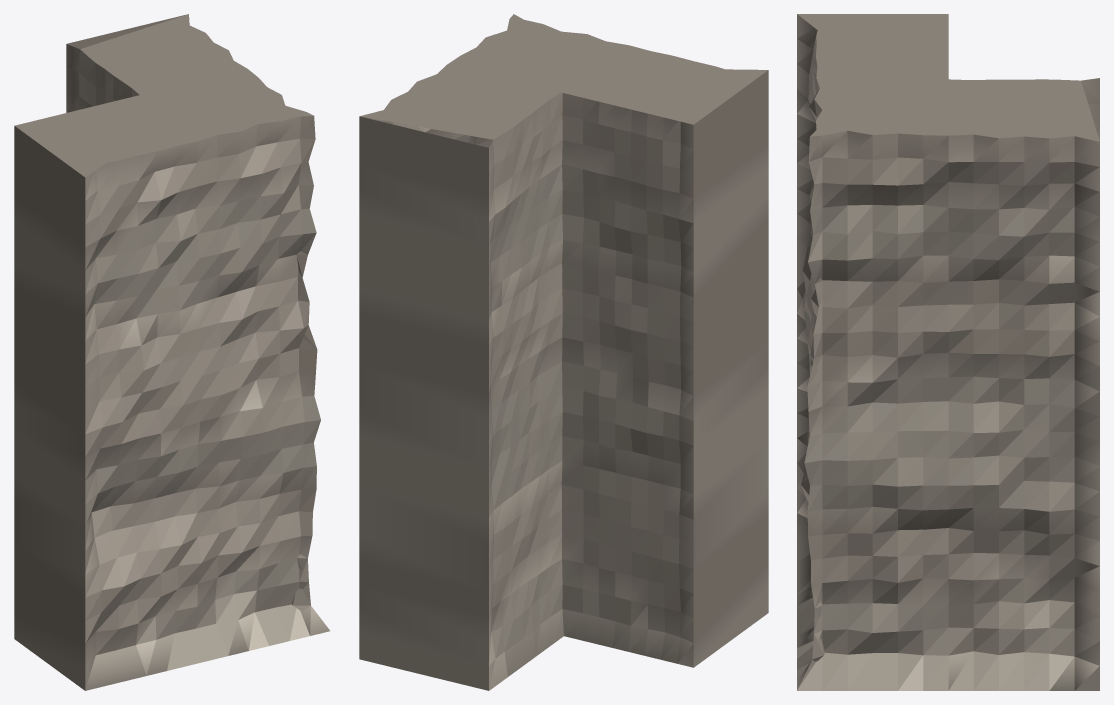
The model's file is cliff-rock-wall-corner-out.fbx.
The picture shows the model from 3 angles, left to right: view 1: azimuth 30°, elevation 25°; view 2: azimuth 150°, elevation 25°; view 3: azimuth 270°, elevation 25°; orthographic projection. The views are drawn at different scales.
Parts seen in each view (by area): view 1: cliff-rock-wall-corner-out; view 2: cliff-rock-wall-corner-out; view 3: cliff-rock-wall-corner-out.
Part boxes in pixels (left/top/right/bottom): cliff-rock-wall-corner-out: left=14, top=14, right=329, bottom=690; cliff-rock-wall-corner-out: left=359, top=14, right=768, bottom=690; cliff-rock-wall-corner-out: left=797, top=14, right=1099, bottom=690.
Size of the model in its own units: 3 by 6 by 3.
